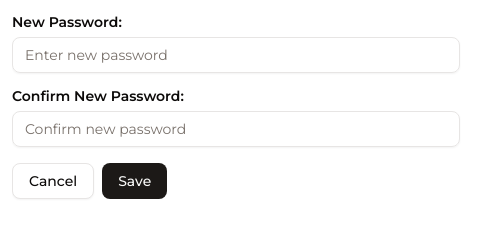
Test case: ChangePasswordSection › shows validation error when passwords do not match
In the password field with placeholder "Enter new password": (236, 55) [12, 37, 460, 73], type "validpassword1"
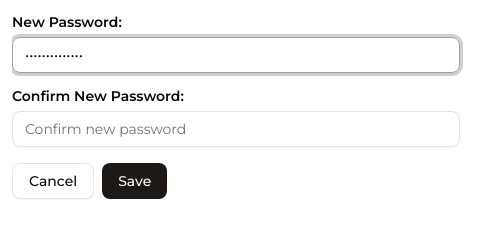
In the password field with placeholder "Confirm New Password": (236, 129) [12, 111, 460, 147], type "differentpassword"
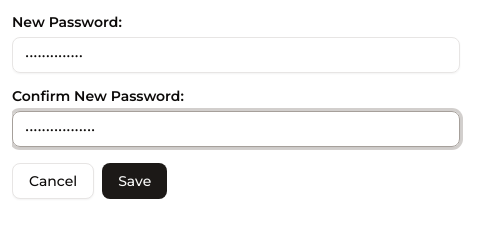
Click the button "Save": (135, 181) [102, 163, 167, 199]
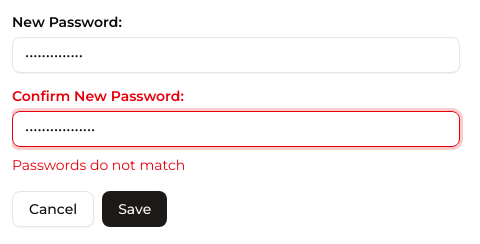
expect the text "Passwords do not match" is shown: met, box [12, 156, 185, 174]
